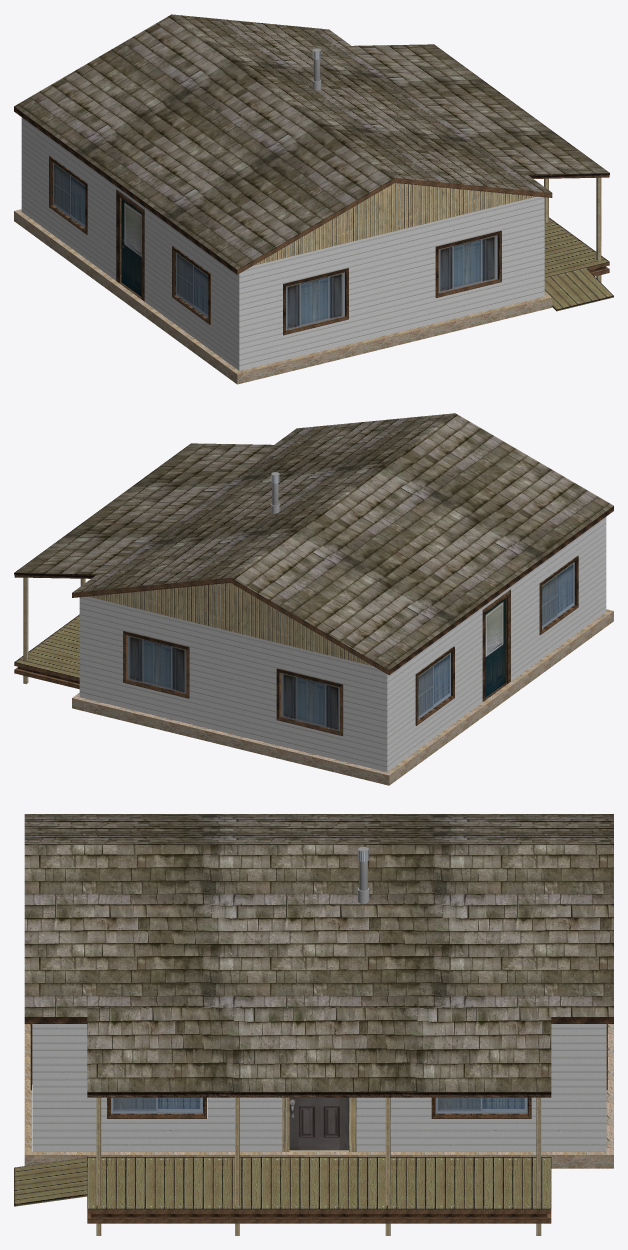
File: house-ranch-small.glb
3 views of the same model, one above another, from view 1: azimuth 30°, elevation 25°; view 2: azimuth 150°, elevation 25°; view 3: azimuth 270°, elevation 25° (orthographic). The views are drawn at different scales.
Visible parts, largest first — view 1: building_003, Cube, Cube.005, Cube.006, Cube.004; view 2: building_003, Cube, Cube.005, Cube.001; view 3: building_003, Cube, Cube.005, Cube.006, Cube.001, Cube.002, Cube.004, Cube.003, Cylinder.
Part boxes in pixels (bbox=[...]): building_003: bbox=[14, 14, 552, 384]; Cube: bbox=[345, 44, 609, 178]; Cube.005: bbox=[544, 217, 609, 277]; Cube.006: bbox=[544, 268, 613, 311]; Cube.004: bbox=[596, 177, 601, 282]; building_003: bbox=[72, 413, 613, 785]; Cube: bbox=[14, 443, 280, 578]; Cube.005: bbox=[14, 614, 79, 689]; Cube.001: bbox=[23, 577, 28, 684]; building_003: bbox=[24, 814, 613, 1168]; Cube: bbox=[87, 1008, 551, 1097]; Cube.005: bbox=[87, 1157, 551, 1223]; Cube.006: bbox=[14, 1157, 87, 1206]; Cube.001: bbox=[536, 1097, 541, 1235]; Cube.002: bbox=[385, 1097, 390, 1235]; Cube.004: bbox=[96, 1097, 101, 1235]; Cube.003: bbox=[235, 1097, 239, 1235]; Cylinder: bbox=[357, 847, 369, 903].
Bounding box in the file's own units: 8.14 × 3.99 × 8.09.
Materials: 9 (9 with a texture image).
